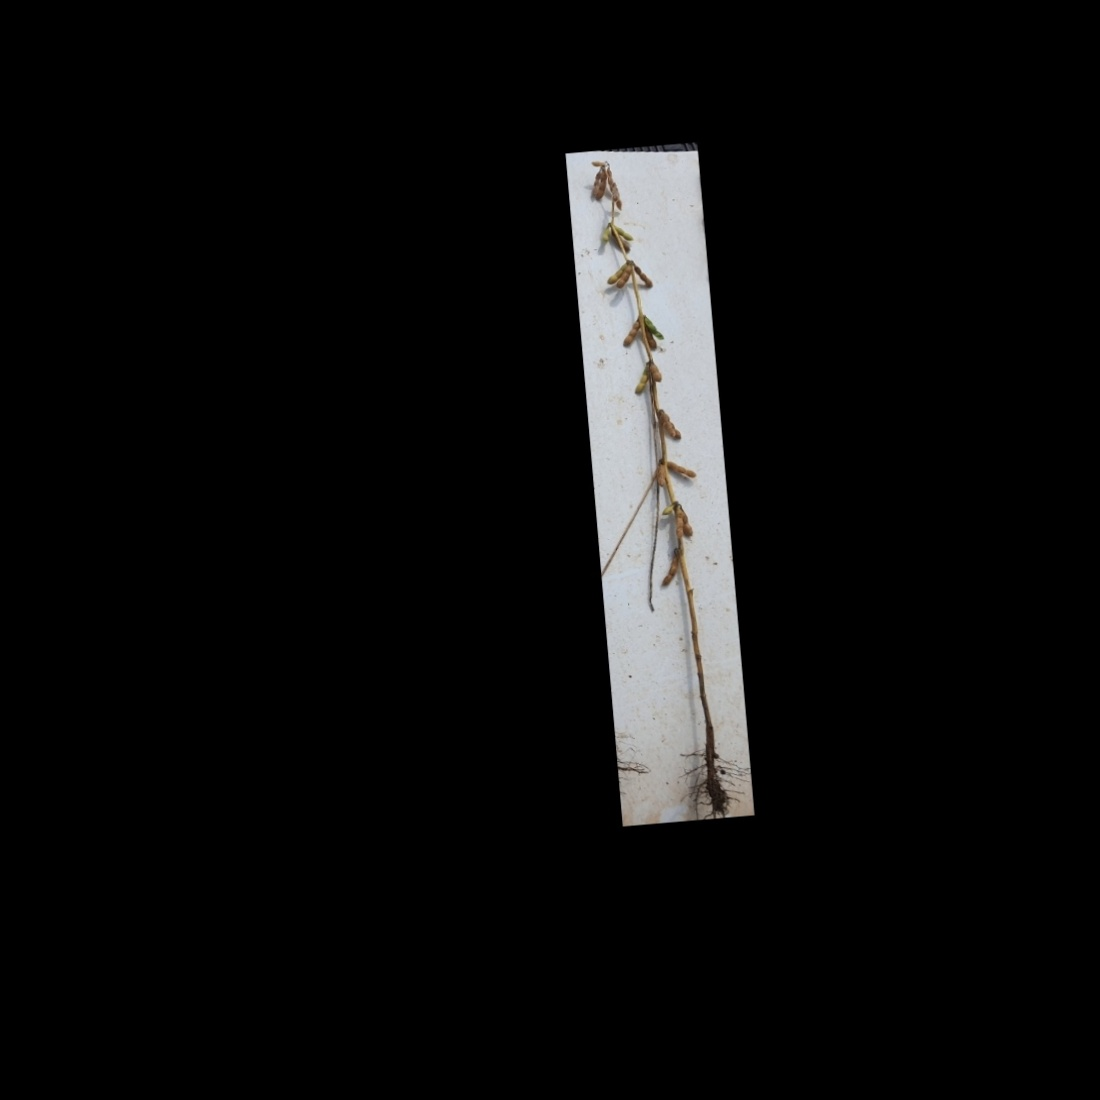pod: (658, 550, 683, 587), (664, 455, 697, 482), (630, 366, 653, 395), (632, 261, 655, 289), (621, 318, 644, 346), (655, 460, 669, 488), (648, 361, 664, 384), (658, 501, 679, 518), (597, 225, 611, 245), (589, 158, 606, 168)
soy: (578, 145, 738, 815)
